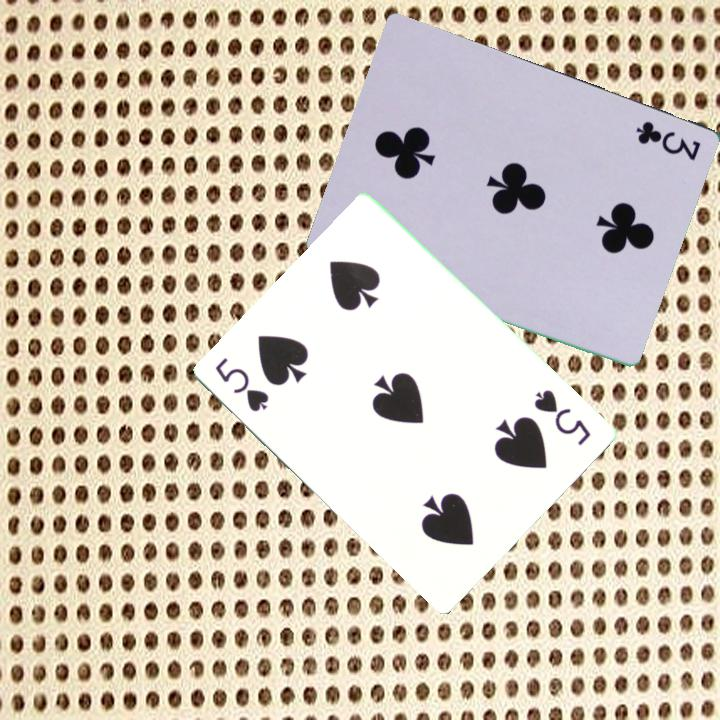3c: (631, 117, 703, 164)
5s: (531, 386, 595, 449), (212, 353, 273, 415)
